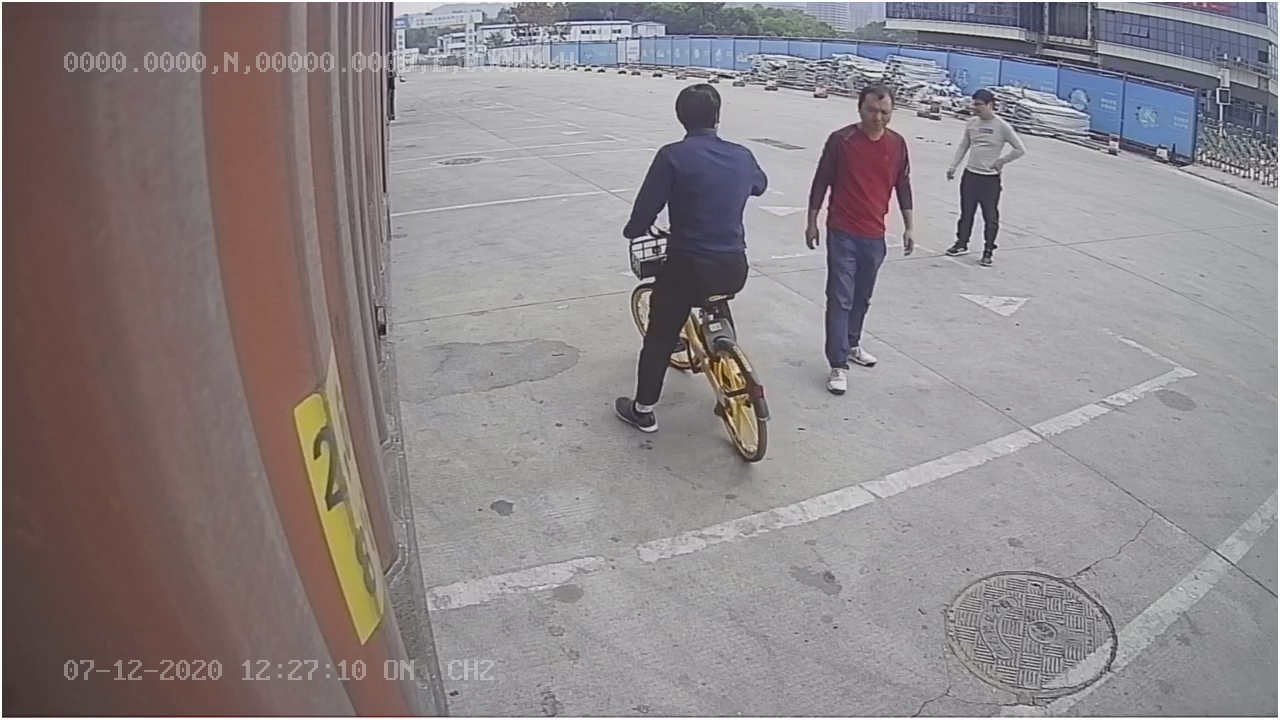person: (801, 76, 920, 399)
